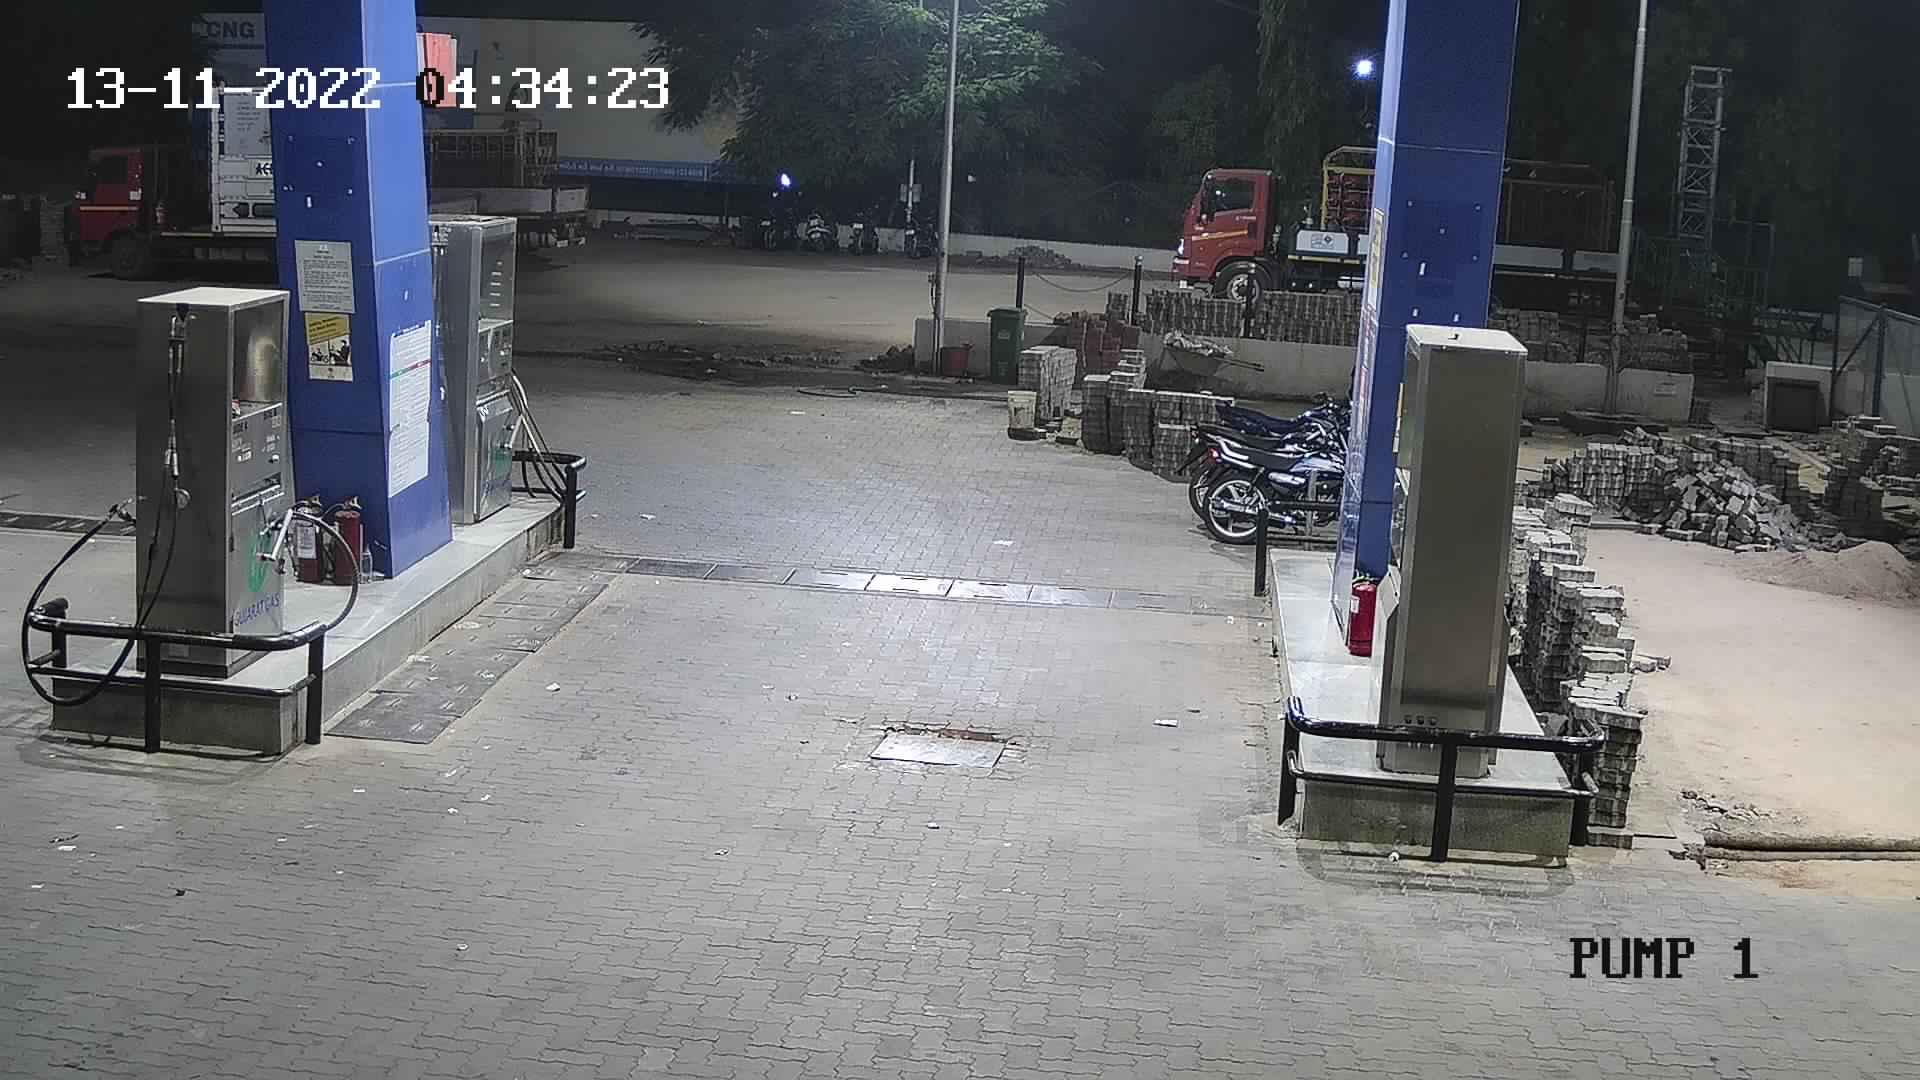Bike: (1176, 389, 1358, 564), (744, 179, 803, 253), (893, 187, 943, 266), (840, 194, 891, 257), (796, 191, 844, 258)
HMV: (51, 73, 287, 286), (1160, 133, 1379, 334), (411, 83, 601, 272)
